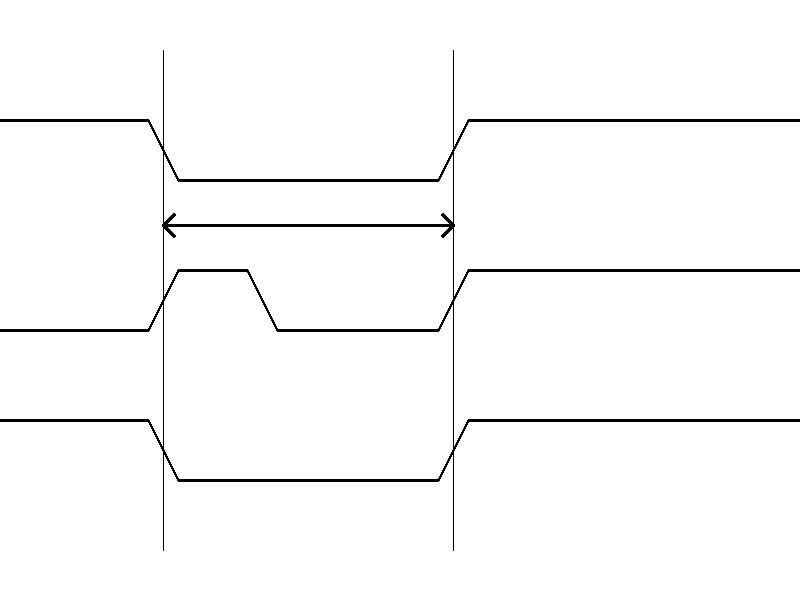double_arrow: (163, 210, 453, 240)
